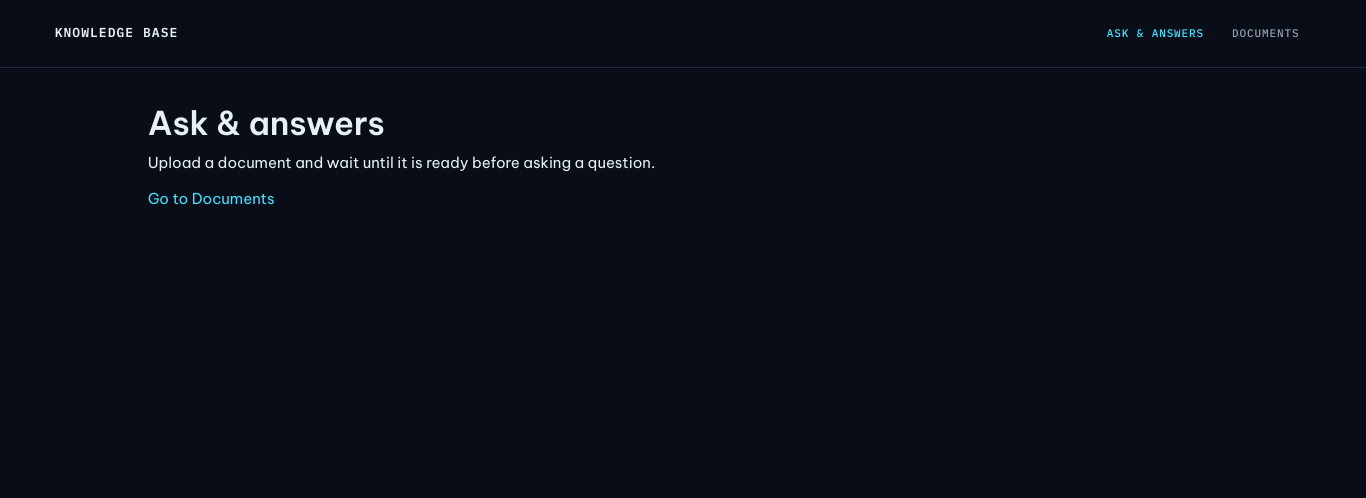
Test: App — shell and documents › shows a safe error and Retry when the list request fails
The width and height of the screenshot is (1366, 498).
What coordinates should you click on to do the following:
click the link "Documents"
I would click on:
 (1266, 33)
Its box is [1232,26,1299,40].
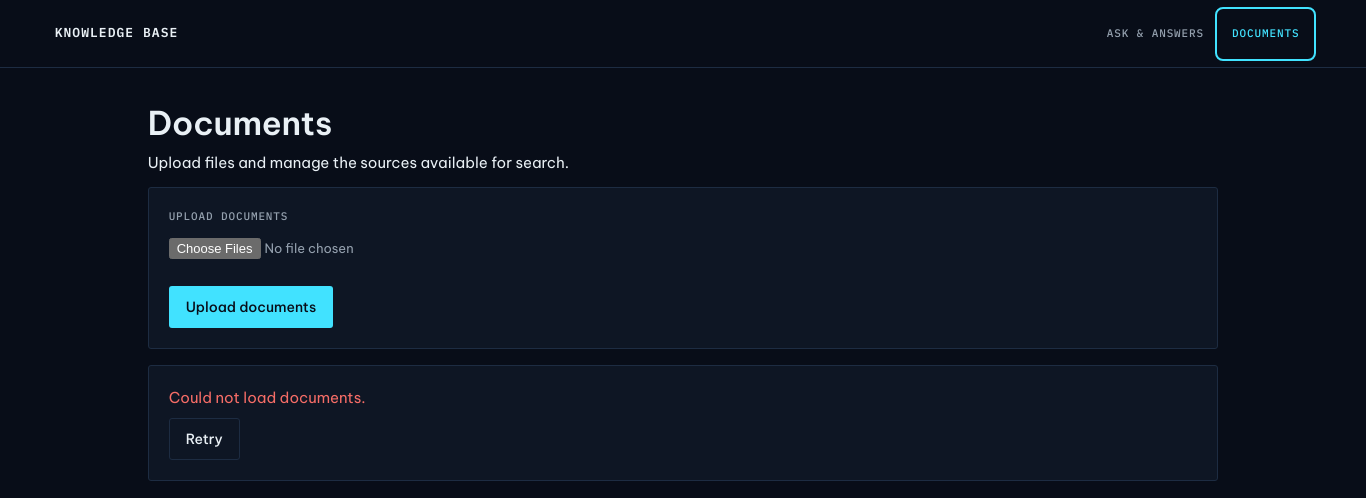
Now the text "Could not load documents." is shown, box [169,388,366,407]
Now the button "Retry" is shown, box [169,418,240,460]
